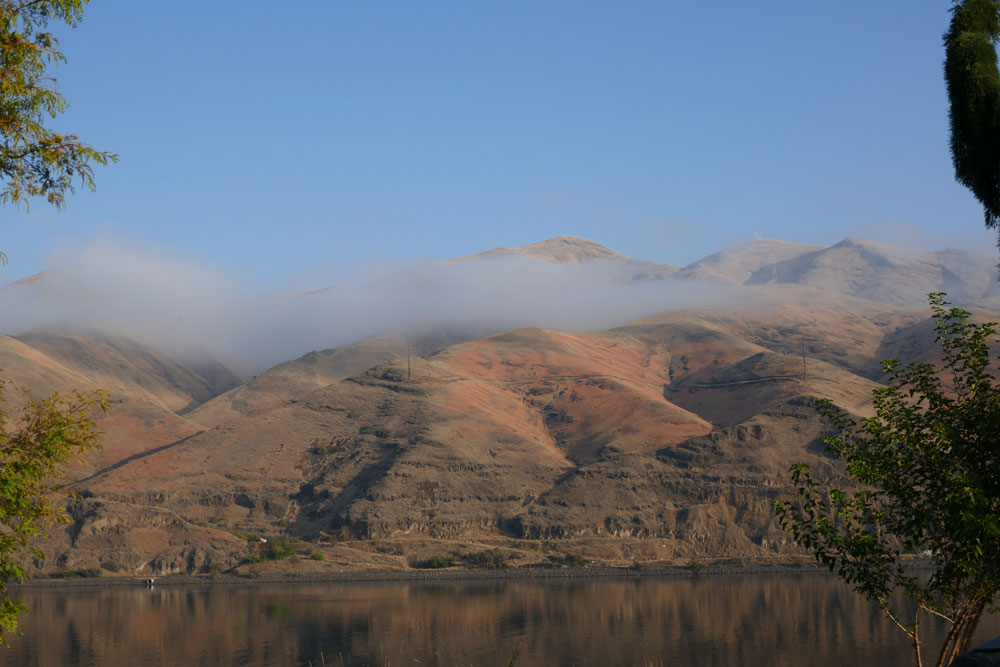Stratus: (24, 221, 734, 344)
